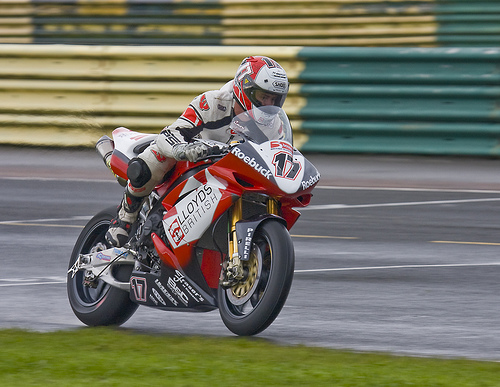helmet: (234, 58, 288, 108)
